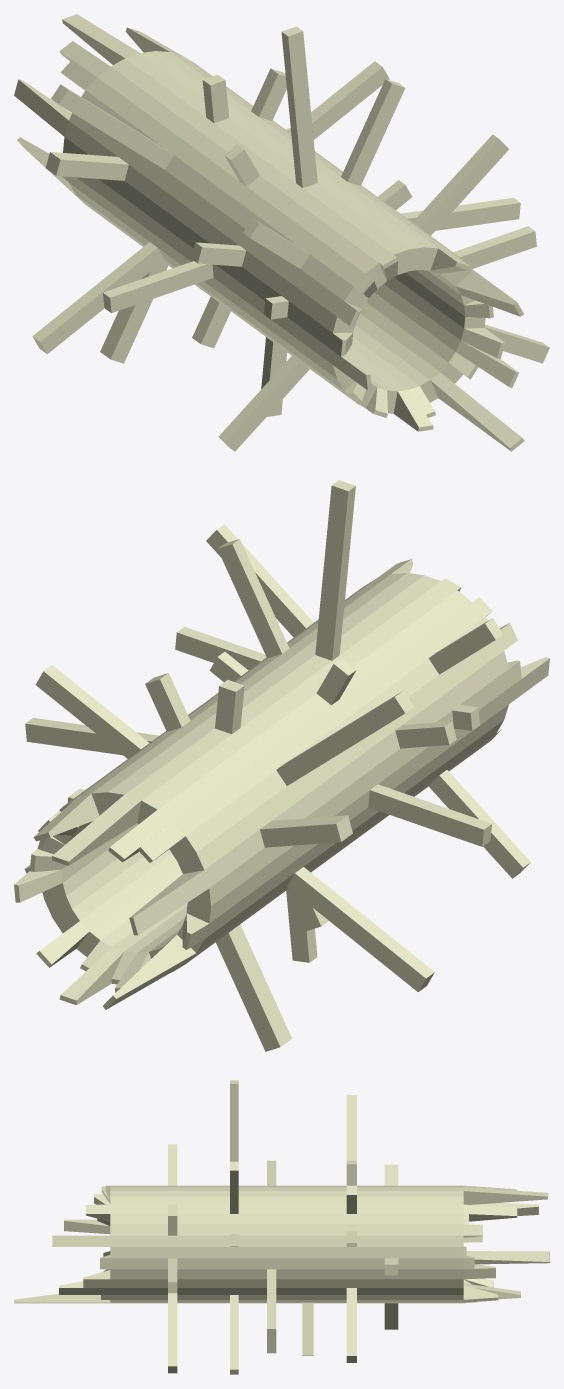
Rendered from void_station.fbx.
3 renders of one model, top to bottom at view 1: azimuth 30°, elevation 25°; view 2: azimuth 150°, elevation 25°; view 3: azimuth 270°, elevation 25°, orthographic. The views are drawn at different scales.
Parts seen in each view (by area): view 1: Cylinder.001; view 2: Cylinder.001; view 3: Cylinder.001.
Part boxes in pixels (x1,y1,x2,y2): Cylinder.001: (14, 14, 549, 451); Cylinder.001: (14, 480, 549, 1051); Cylinder.001: (14, 1080, 549, 1374).
Bounding box in the file's own units: 542 × 501 × 910.
